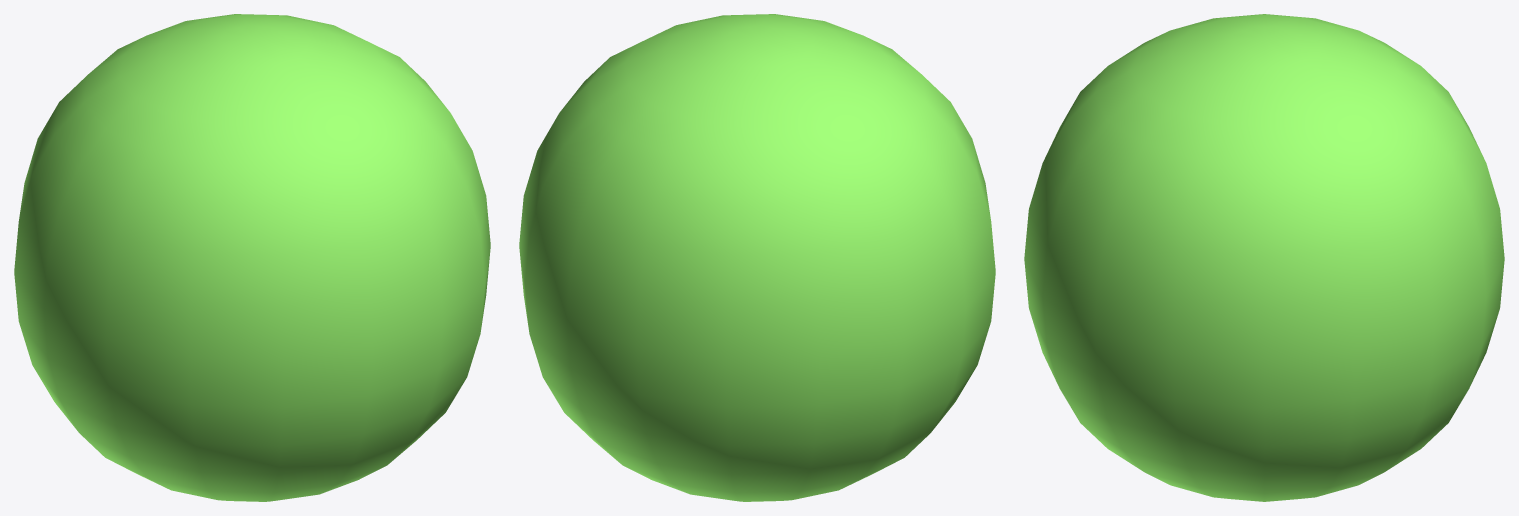
File: Ice Cream Green.fbx
3 views of the same model, side by side, from view 1: azimuth 30°, elevation 25°; view 2: azimuth 150°, elevation 25°; view 3: azimuth 270°, elevation 25° (orthographic).
Visible parts, largest first — view 1: Ice Cream Green; view 2: Ice Cream Green; view 3: Ice Cream Green.
Part boxes in pixels (<box>): Ice Cream Green: <box>14,14,490,501</box>; Ice Cream Green: <box>519,14,995,501</box>; Ice Cream Green: <box>1024,14,1504,501</box>.
Bounding box in the file's own units: 0.4671 × 0.4738 × 0.4671.
